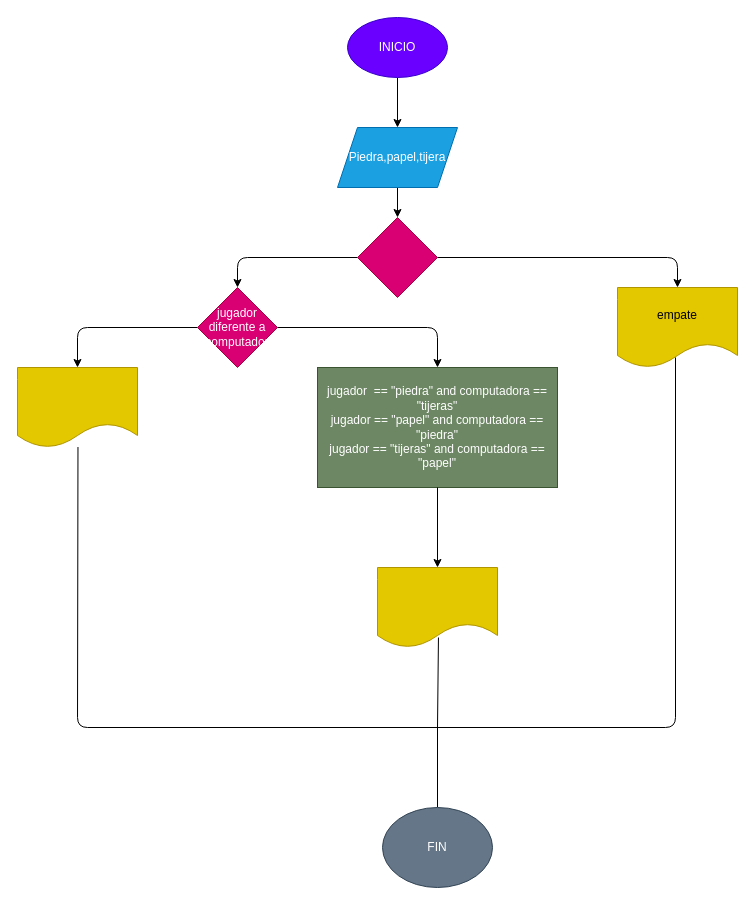
This 755x905 diagram has some shape labels left out. The centre of each missing label's shape, as x and y in pixels:
"ganaste" goes at (437,607).
"jugador == compurador" goes at (397,257).
"perdiste" goes at (77,407).
